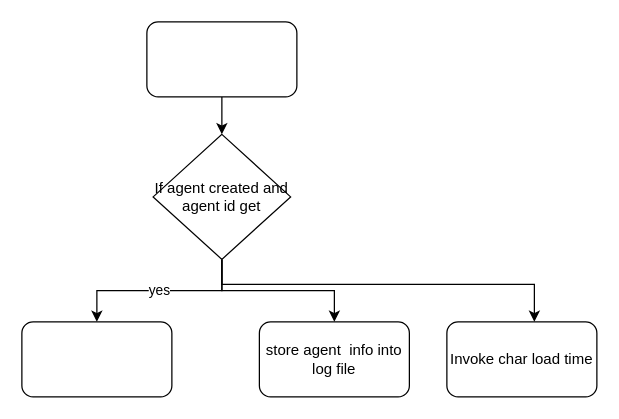
This 619x419 diagram has some shape labels left out. The box of each missing label's shape, as (x1, y1, x2, y2) in pixels:
Invoke the agents create functions: (146, 21, 297, 97)
send id,modelinfo to two client using add agent schema: (21, 321, 172, 397)
